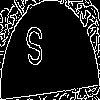S: (25, 25, 45, 75)
